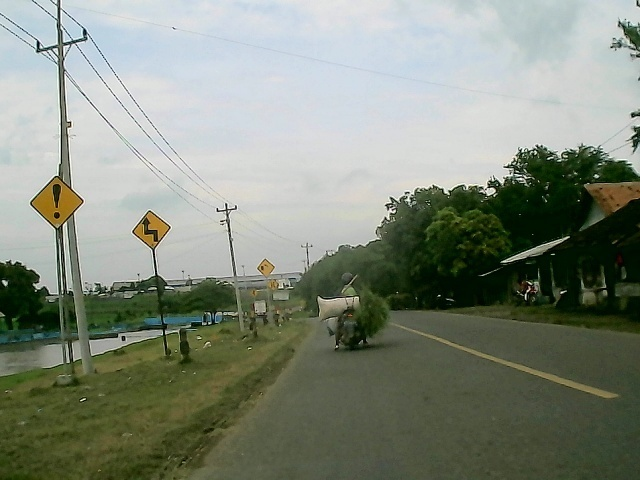Hati-hati: (24, 174, 88, 234)
Peringatan tepi air: (255, 256, 276, 279)
Tikungan garda pertama kiri: (129, 208, 172, 254)
